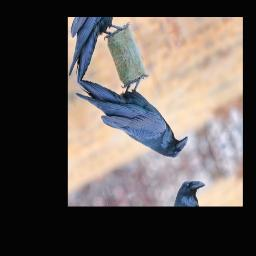Crow: (72, 41, 194, 193)
